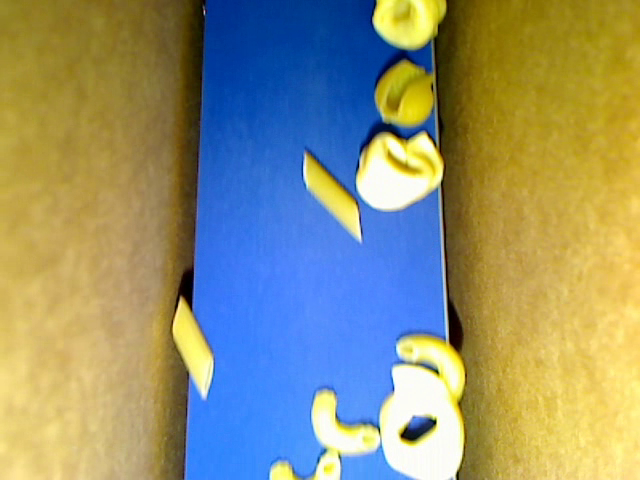elbow: (395, 332, 465, 405), (310, 389, 380, 455), (269, 449, 341, 479)
penne: (302, 149, 363, 242), (170, 295, 213, 401)
shell: (373, 59, 433, 125)
tortellini: (378, 361, 465, 479), (355, 129, 447, 212), (372, 1, 447, 51)
